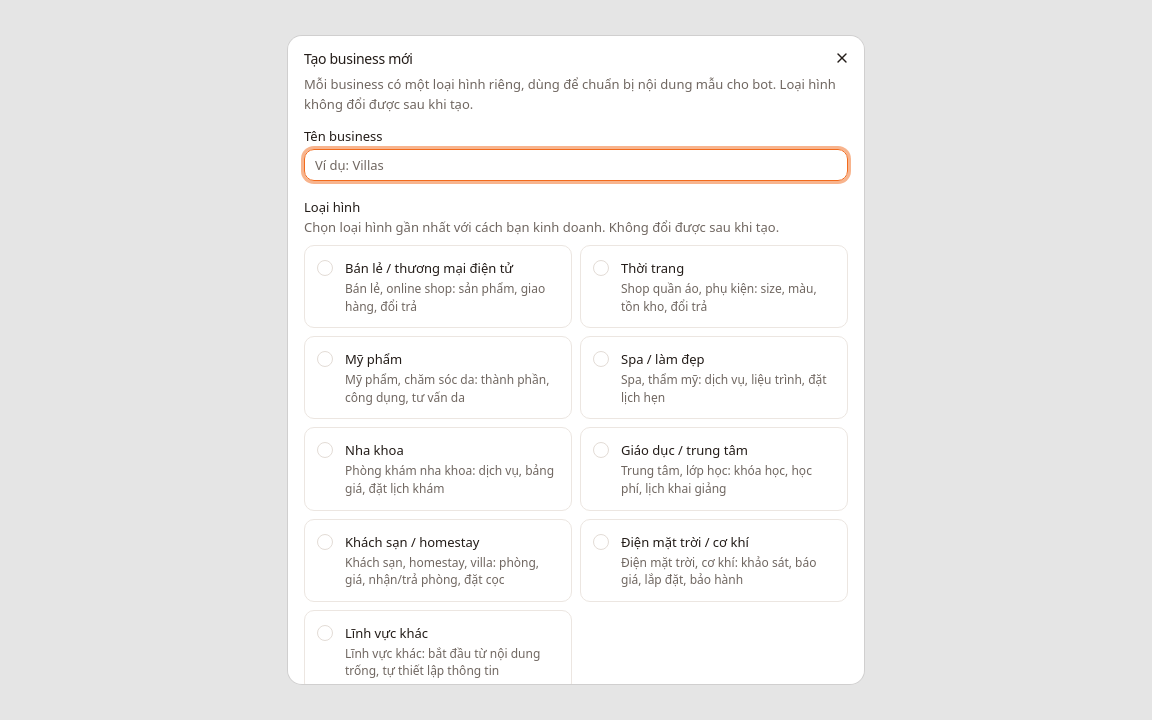
Test: CreateBusinessDialog › keeps the inputs and shows a message when the server refuses
Step 1. Type "Villas" into the field labelled "Tên business" → (576, 165), box left=304, top=149, right=848, bottom=181
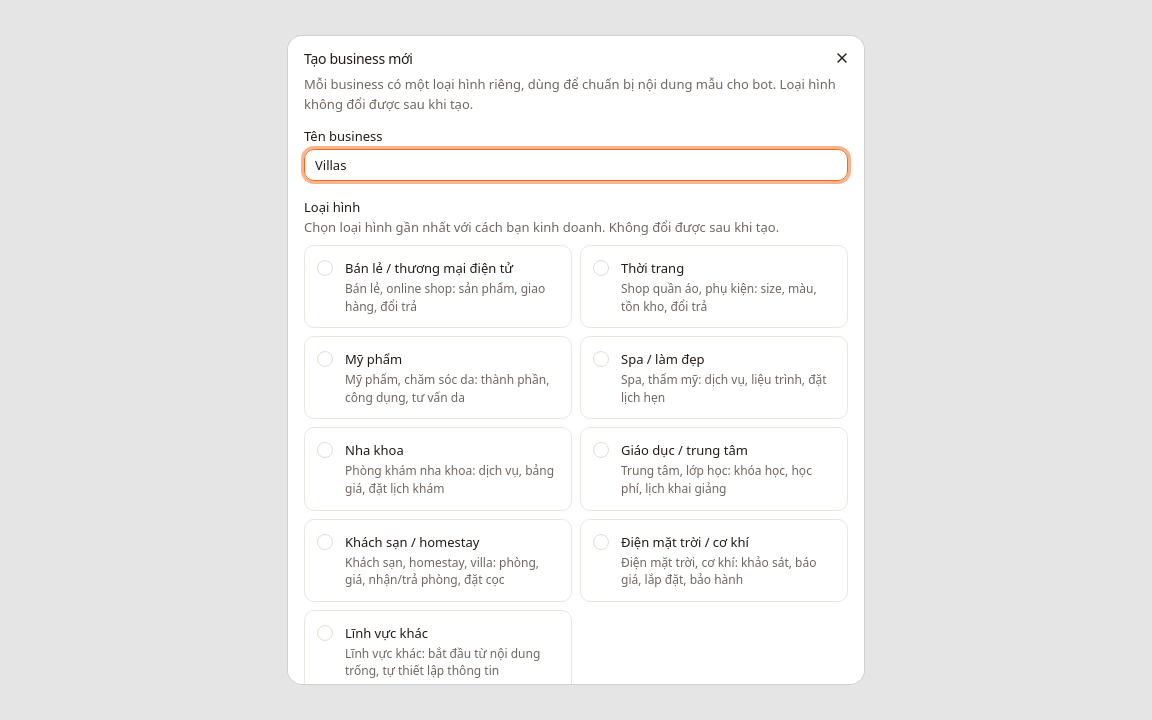
Step 2. Click the radio button named "Khách sạn" next to "Khách sạn / homestay" → (325, 542), box left=317, top=534, right=333, bottom=550
(page scrolled)
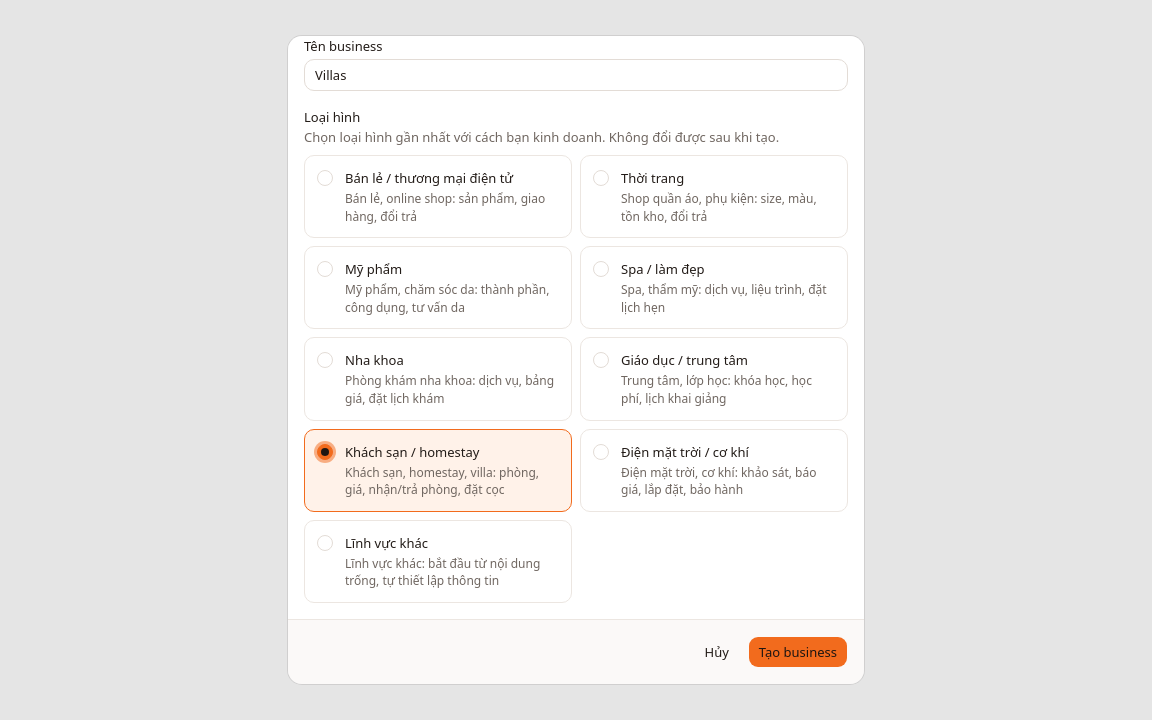
Step 3. Click the button "Tạo business" → (798, 652), box left=748, top=636, right=848, bottom=668
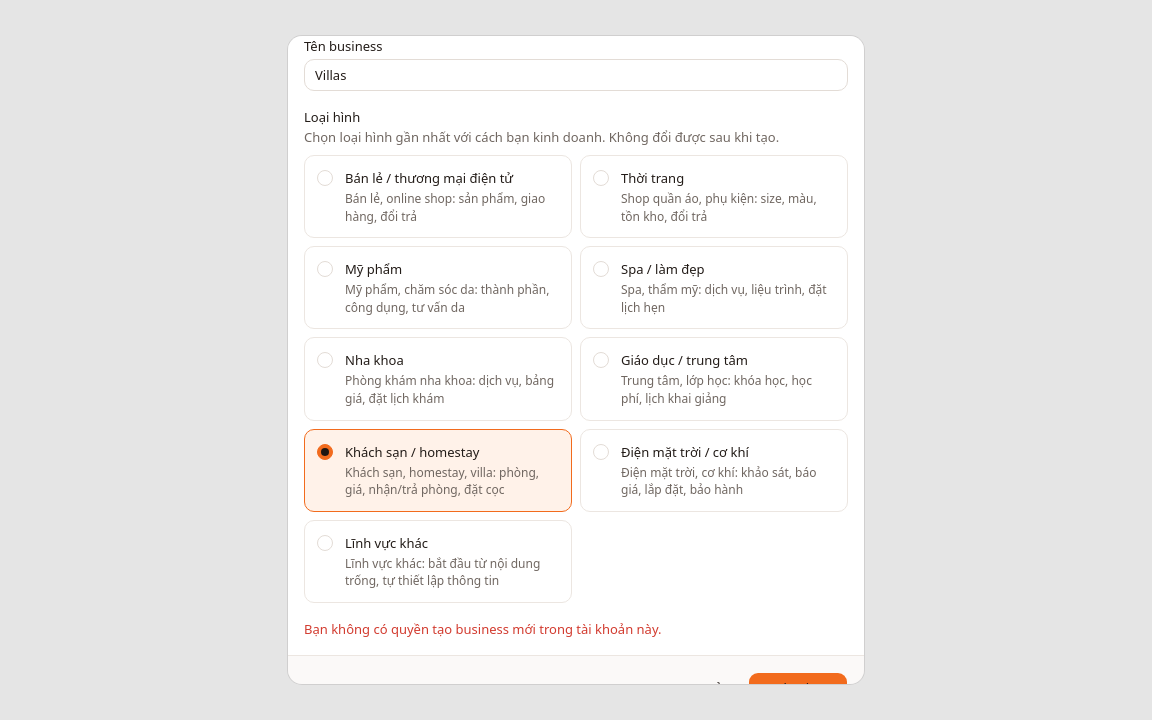
Result: the message reads "Bạn không có quyền tạo business mới trong tài khoản này." at left=304, top=620, right=662, bottom=638
